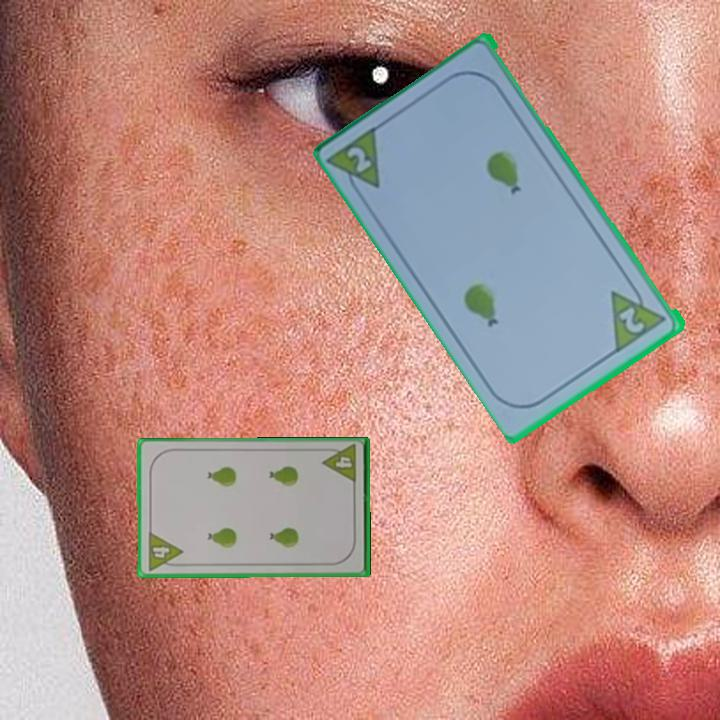2p: (616, 303, 648, 337), (344, 142, 376, 176)
4p: (144, 529, 185, 573), (320, 442, 359, 487)
